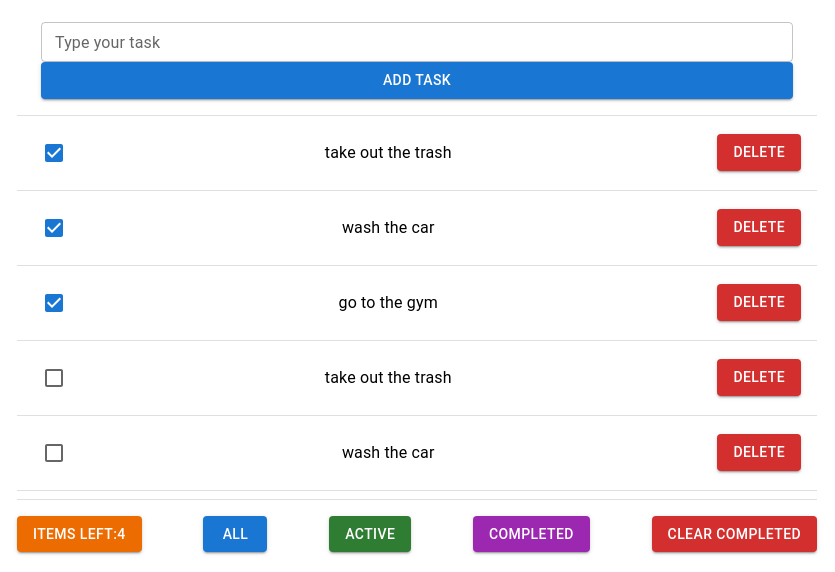
Test: App › filter tasks by completed
Type "go to the gym" into the field with test id "task-input" at (417, 42), box [41,22,793,62]
Submit the form from the button with test id "task-button", box [41,62,793,98]
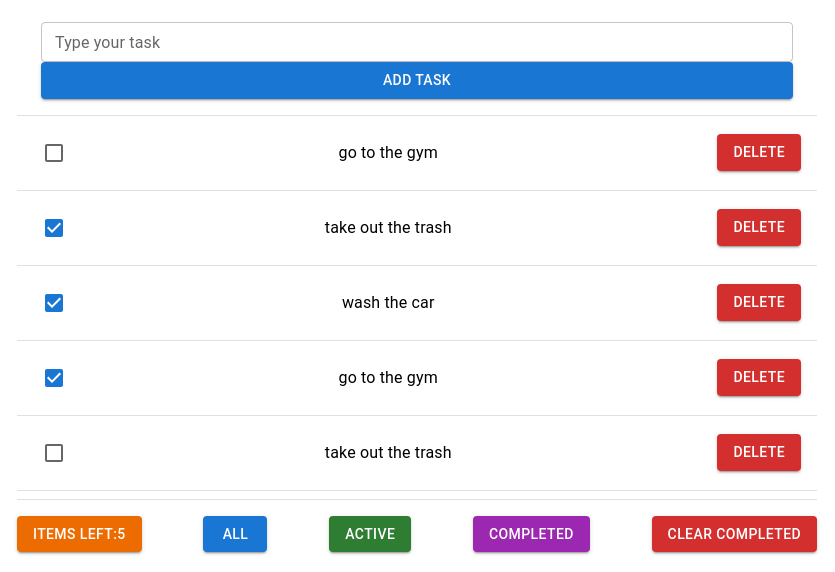
Type "wash the car" into the field with test id "task-input" at (417, 42), box [41,22,793,62]
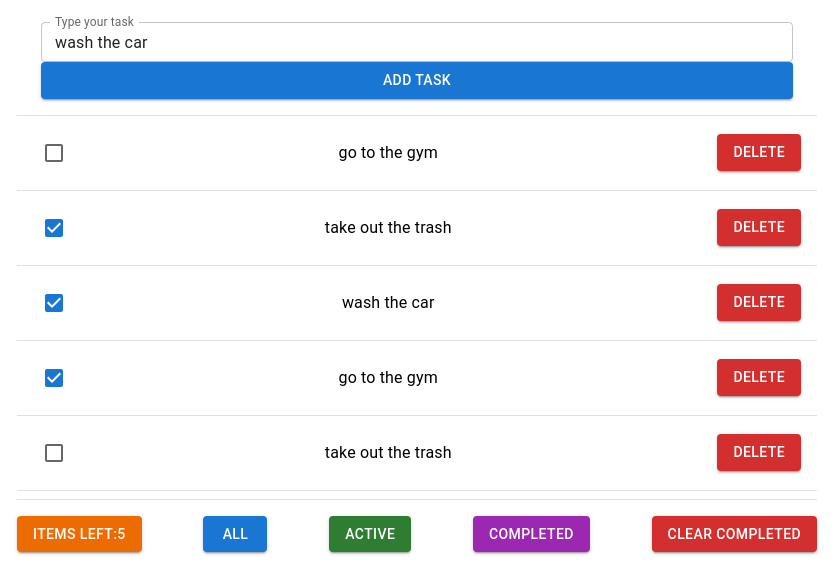
Submit the form from the button with test id "task-button", box [41,62,793,98]
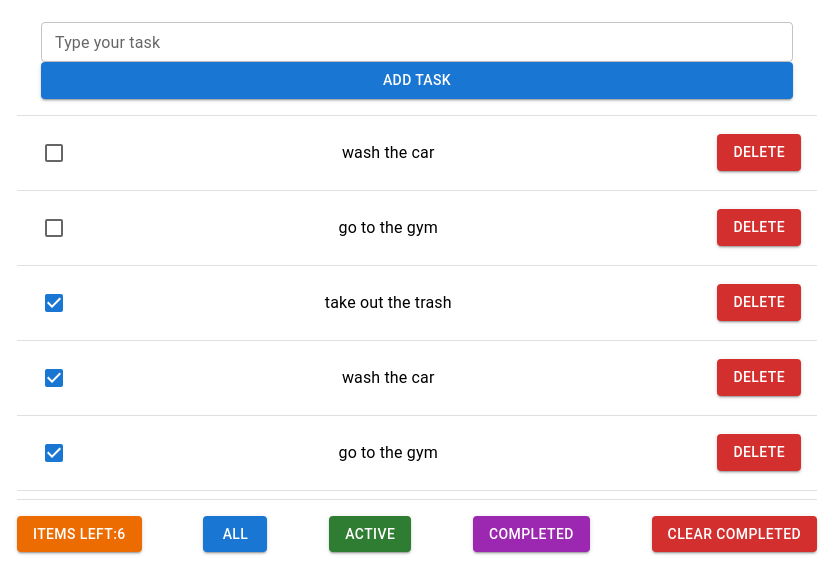
Type "take out the trash" into the field with test id "task-input" at (417, 42), box [41,22,793,62]
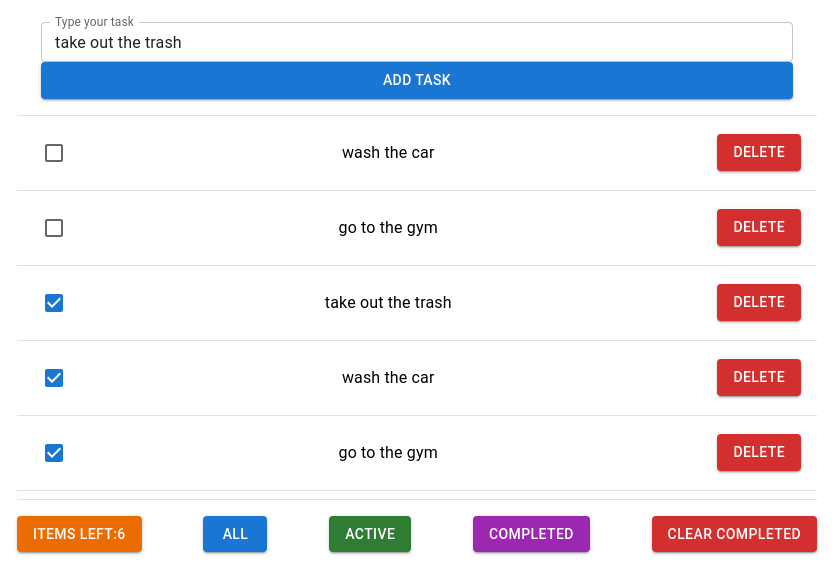
Submit the form from the button with test id "task-button", box [41,62,793,98]
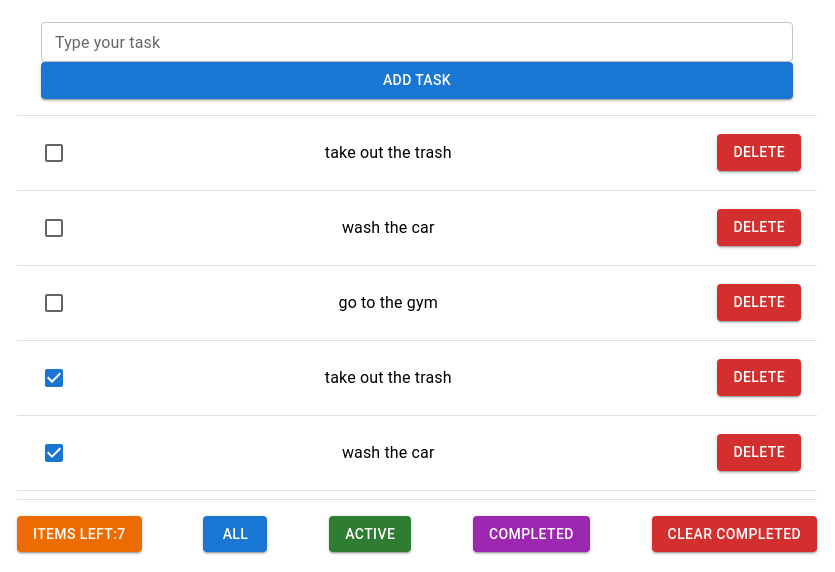
Click the button with test id "task-completed-button" at (531, 534), box [473,516,590,552]
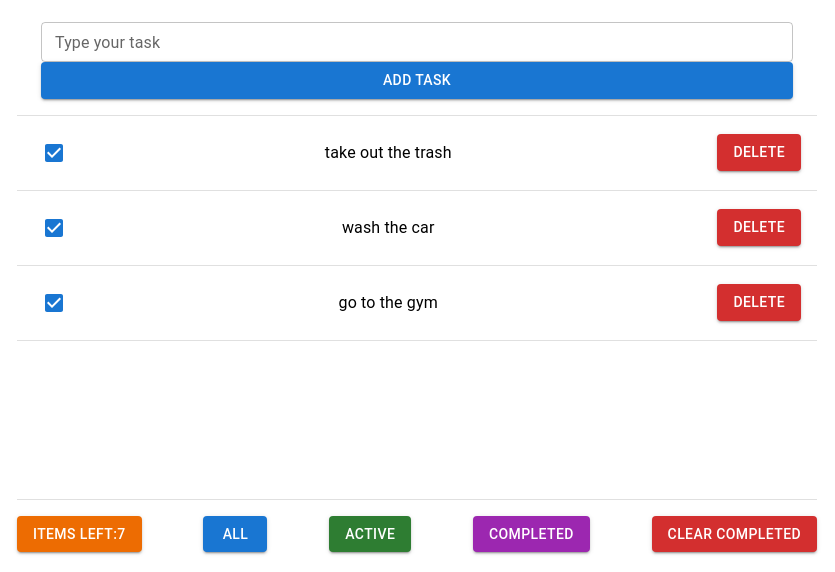
Now the element with test id "task-item-0-ACTIVE" is gone
